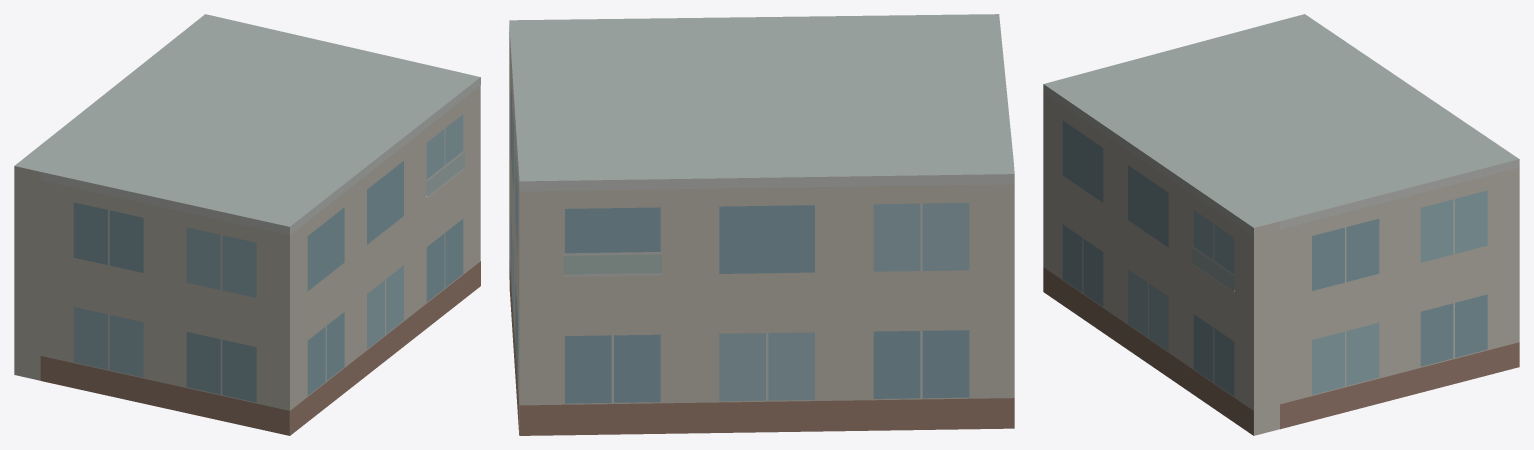
The model's file is survey-upis-32462050.glb.
3 renders of one model, left to right at view 1: azimuth 30°, elevation 25°; view 2: azimuth 150°, elevation 25°; view 3: azimuth 270°, elevation 25°, orthographic. The views are drawn at different scales.
Parts seen in each view (by area): view 1: survey-upis-32462050.tmp; view 2: survey-upis-32462050.tmp; view 3: survey-upis-32462050.tmp.
Boxes of the visible parts, x1,y1,x2,y2 form: survey-upis-32462050.tmp: [14, 14, 480, 435]; survey-upis-32462050.tmp: [509, 14, 1014, 435]; survey-upis-32462050.tmp: [1043, 14, 1519, 435].
Bounding box in the file's own units: 13.47 × 6.1 × 12.67.
